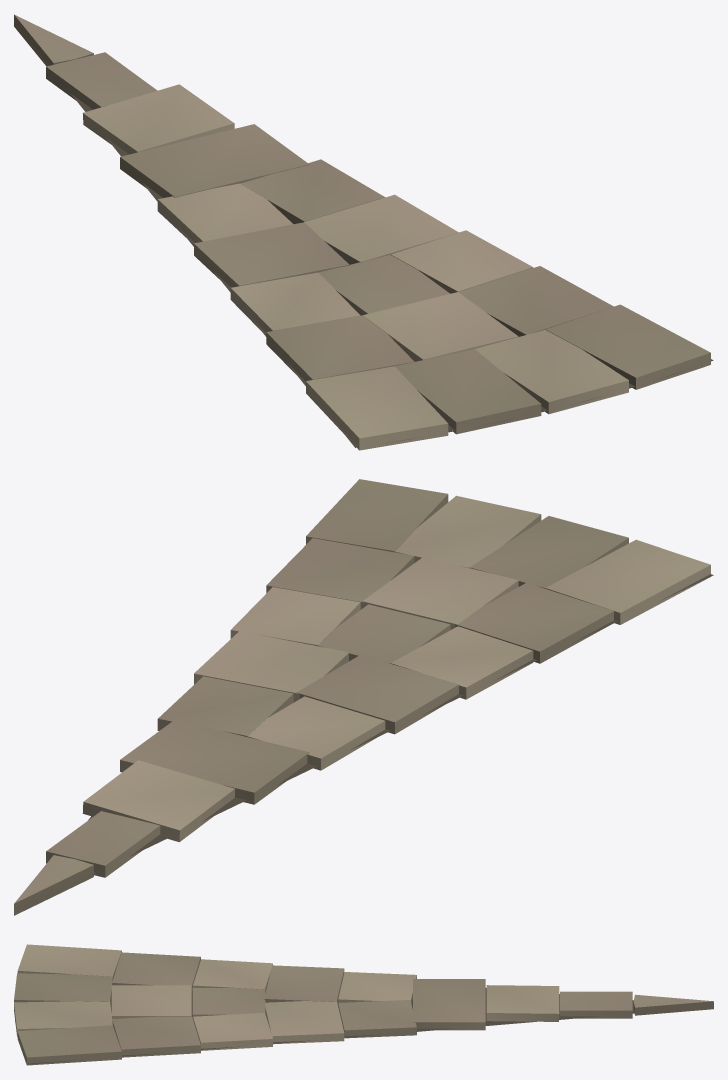
File: dome_floor_bp2_mid.glb
The picture shows the model from 3 angles, top to bottom: view 1: azimuth 30°, elevation 25°; view 2: azimuth 150°, elevation 25°; view 3: azimuth 270°, elevation 25°; orthographic projection. The views are drawn at different scales.
Parts seen in each view (by area): view 1: dome_floor_bp2_mid; view 2: dome_floor_bp2_mid; view 3: dome_floor_bp2_mid.
Part boxes in pixels (x1,y1,x2,y2): dome_floor_bp2_mid: (14, 14, 713, 450); dome_floor_bp2_mid: (14, 479, 713, 915); dome_floor_bp2_mid: (14, 944, 713, 1065).
Bounding box in the file's own units: 18.57 × 0.915 × 47.62.
